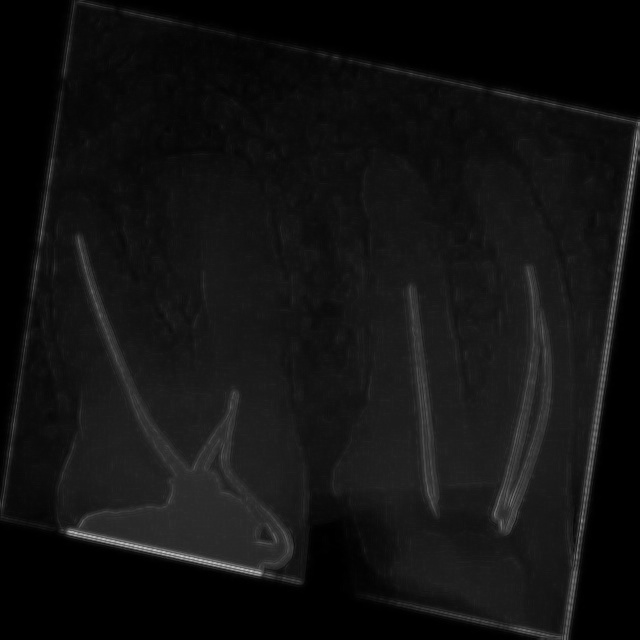Class 2- incomplete endodontic treatment: (282, 107, 634, 627), (0, 123, 378, 585)
